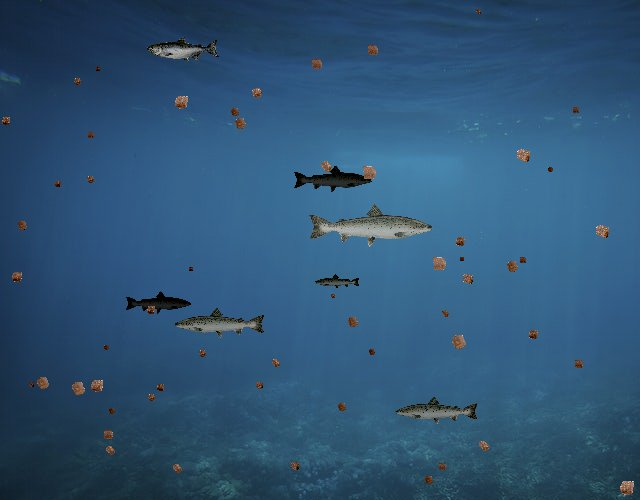Fish: (306, 202, 435, 248), (174, 306, 268, 340), (394, 395, 480, 426), (293, 165, 374, 194), (148, 37, 221, 63), (125, 290, 193, 314), (315, 273, 362, 290)
Pellet: (612, 472, 640, 500), (167, 88, 195, 116), (314, 155, 338, 179), (228, 112, 252, 136), (245, 82, 268, 105), (12, 215, 33, 236), (82, 172, 98, 188), (544, 163, 557, 176), (25, 379, 37, 391)
